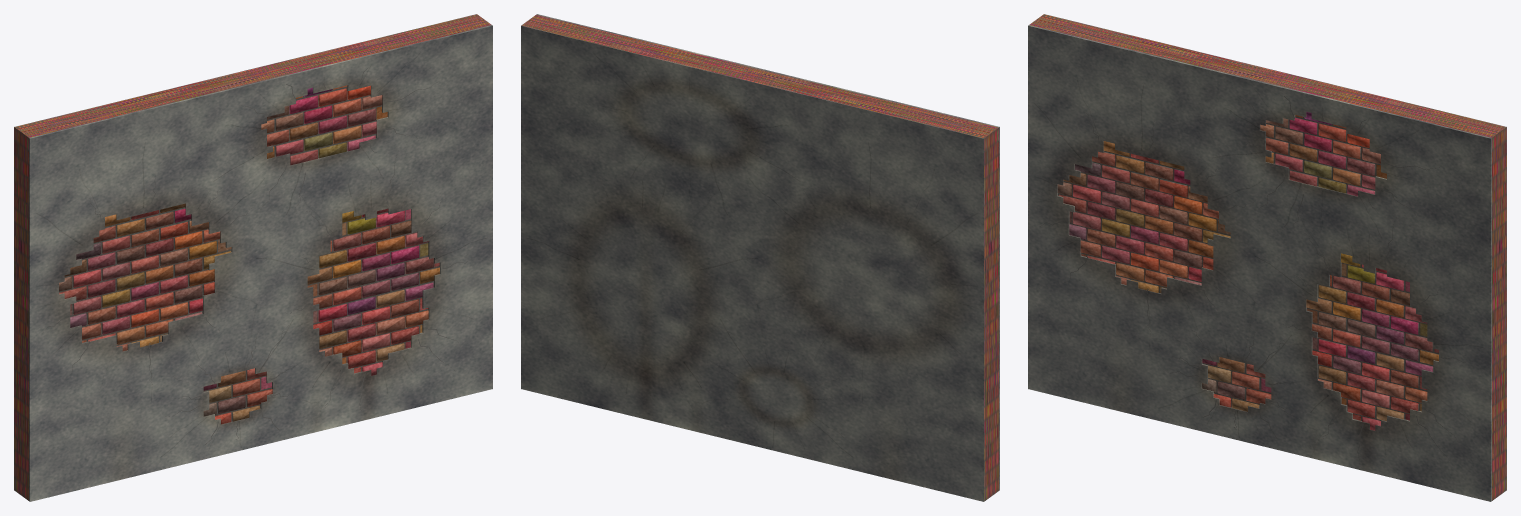
The model's file is ProjectZ_Wall_4m_Damaged.glb.
The picture shows the model from 3 angles, left to right: view 1: azimuth 30°, elevation 25°; view 2: azimuth 150°, elevation 25°; view 3: azimuth 330°, elevation 25°; orthographic projection.
Visible parts, largest first — view 1: Render_Front_Concrete_Plaster, Render_Exposed_Brick_Courses, Render_Brick_Masonry_Core, Render_Fine_Crack_Shadow_Overlay, Render_Rear_Concrete_Finish; view 2: Render_Rear_Concrete_Finish, Render_Brick_Masonry_Core, Render_Front_Concrete_Plaster; view 3: Render_Front_Concrete_Plaster, Render_Exposed_Brick_Courses, Render_Brick_Masonry_Core, Render_Fine_Crack_Shadow_Overlay, Render_Rear_Concrete_Finish.
Boxes of the visible parts, x1,y1,x2,y2 form: Render_Front_Concrete_Plaster: (29,25,492,501); Render_Exposed_Brick_Courses: (59,85,439,424); Render_Brick_Masonry_Core: (14,14,491,500); Render_Fine_Crack_Shadow_Overlay: (42,68,470,444); Render_Rear_Concrete_Finish: (14,14,476,489); Render_Rear_Concrete_Finish: (521,25,984,501); Render_Brick_Masonry_Core: (521,15,998,501); Render_Front_Concrete_Plaster: (536,14,999,490); Render_Front_Concrete_Plaster: (1028,25,1491,501); Render_Exposed_Brick_Courses: (1057,111,1438,430); Render_Brick_Masonry_Core: (1029,14,1506,500); Render_Fine_Crack_Shadow_Overlay: (1039,96,1472,459); Render_Rear_Concrete_Finish: (1044,14,1506,489).
Size of the model in its own units: 4 by 3 by 0.2401.
3 materials, 2 textured.
